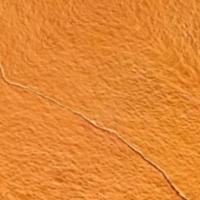crack: (2, 63, 185, 199)
